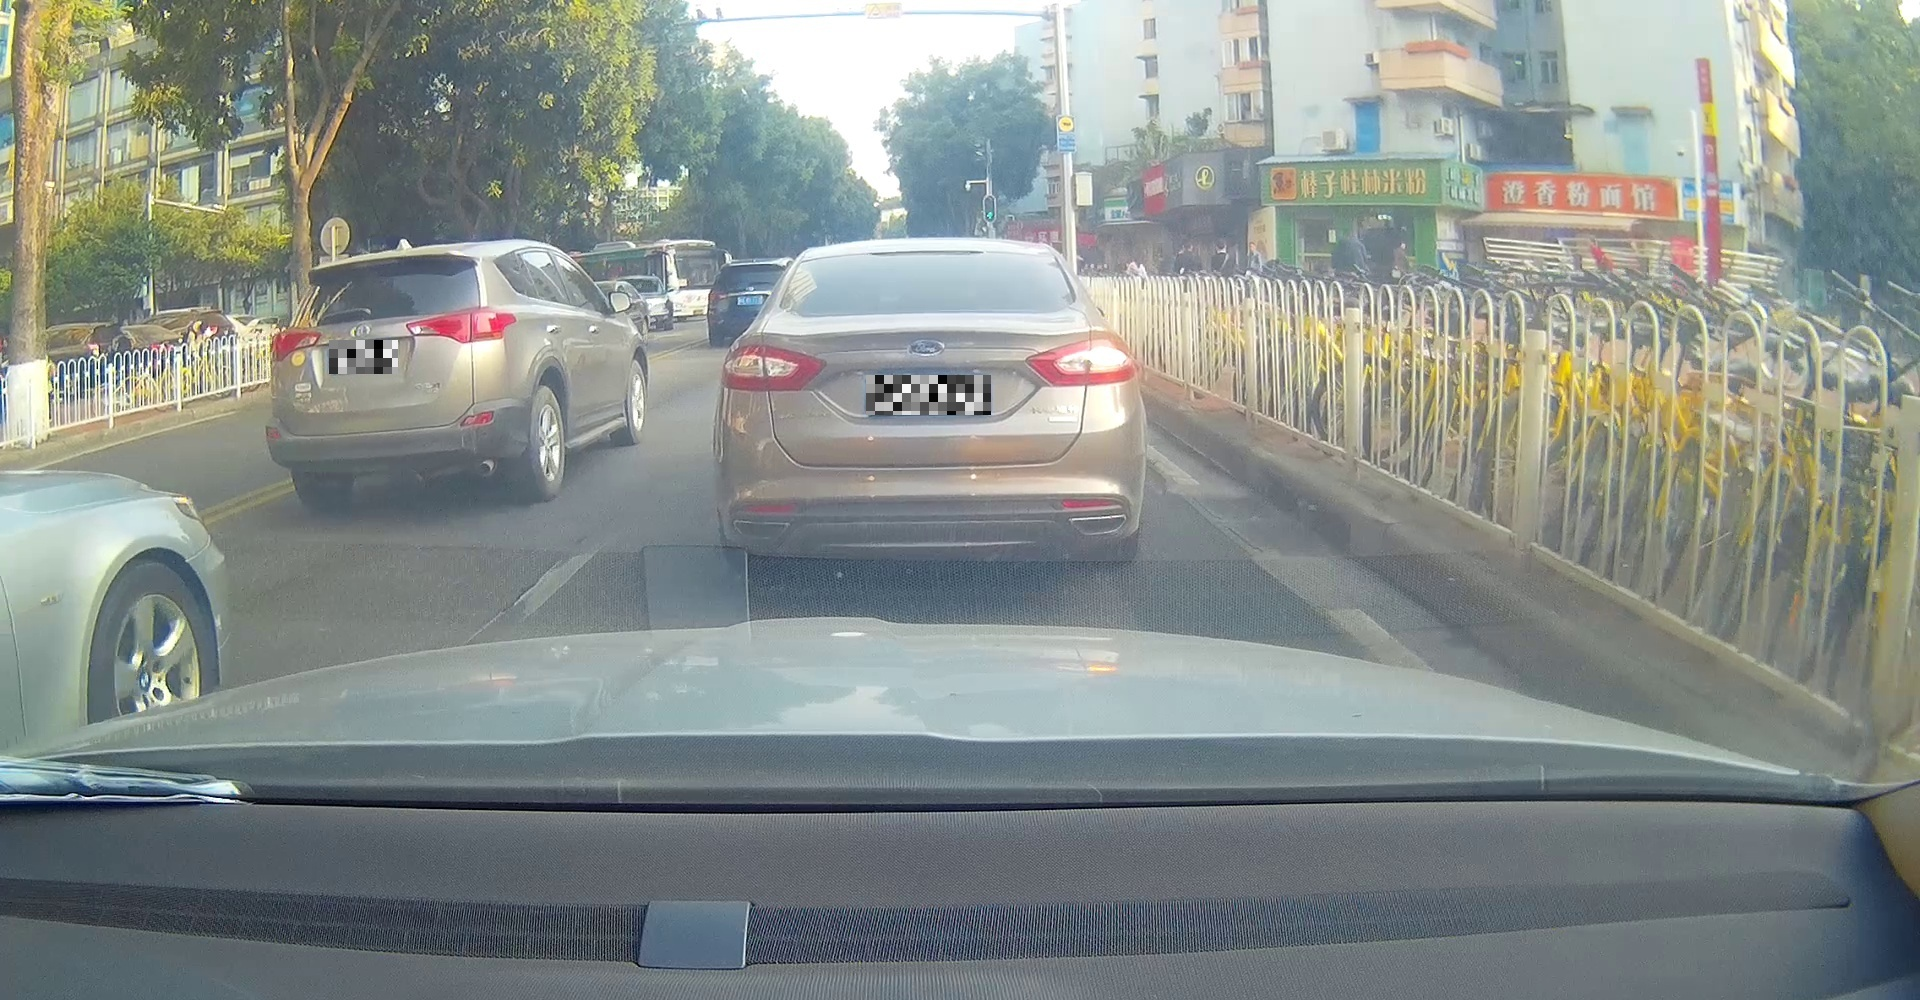L_light: (723, 344, 828, 392), (269, 327, 321, 363)
R_light: (1023, 338, 1137, 387), (404, 306, 517, 344)
T_light: (867, 246, 985, 258), (345, 253, 401, 272)
day-no: (720, 236, 1140, 569), (265, 247, 519, 508)
plate_1: (329, 340, 397, 374)
plate_2: (866, 376, 990, 415)
